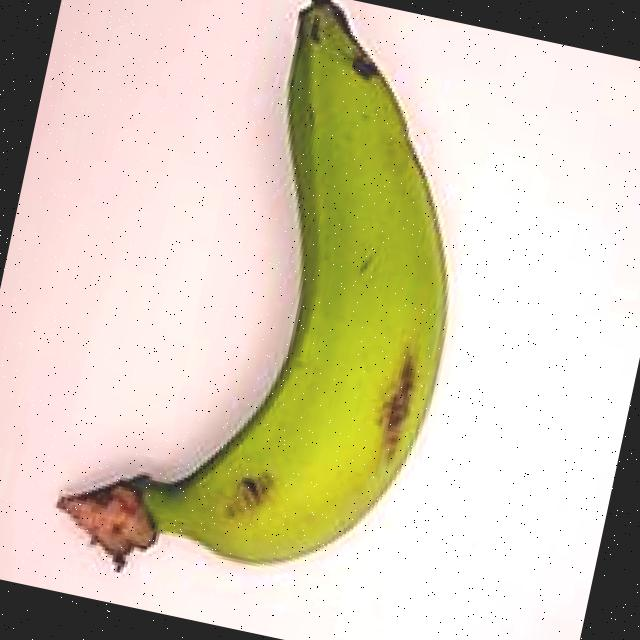Raw: (21, 0, 542, 640)
